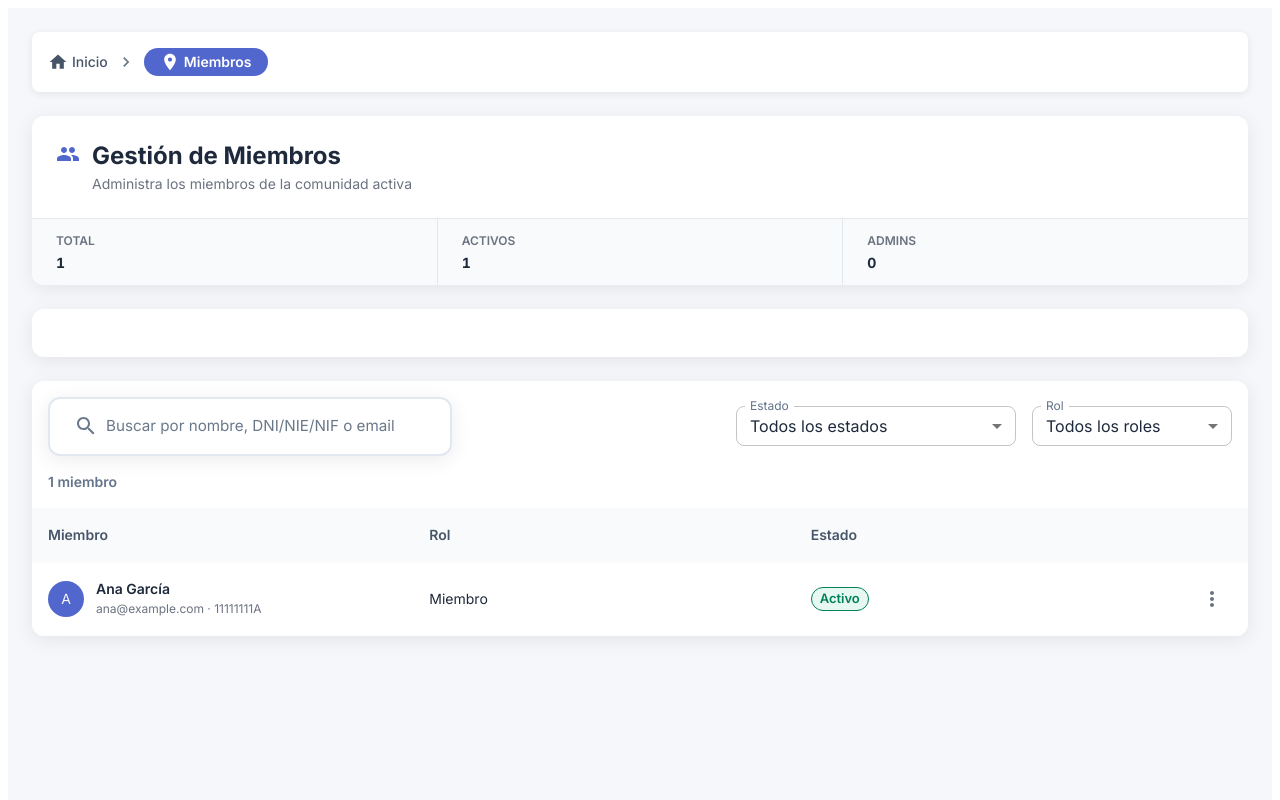
it: a backend that predates the record and suspension capabilities › UI-MBR-001 renders the roster and offers neither action
This screenshot has width=1280, height=800.
Expected: the text "Ana García" is shown, [96,580,170,597]
Click the button named "Más acciones para Ana García".
click(1212, 599)  # box [1195,582,1229,616]
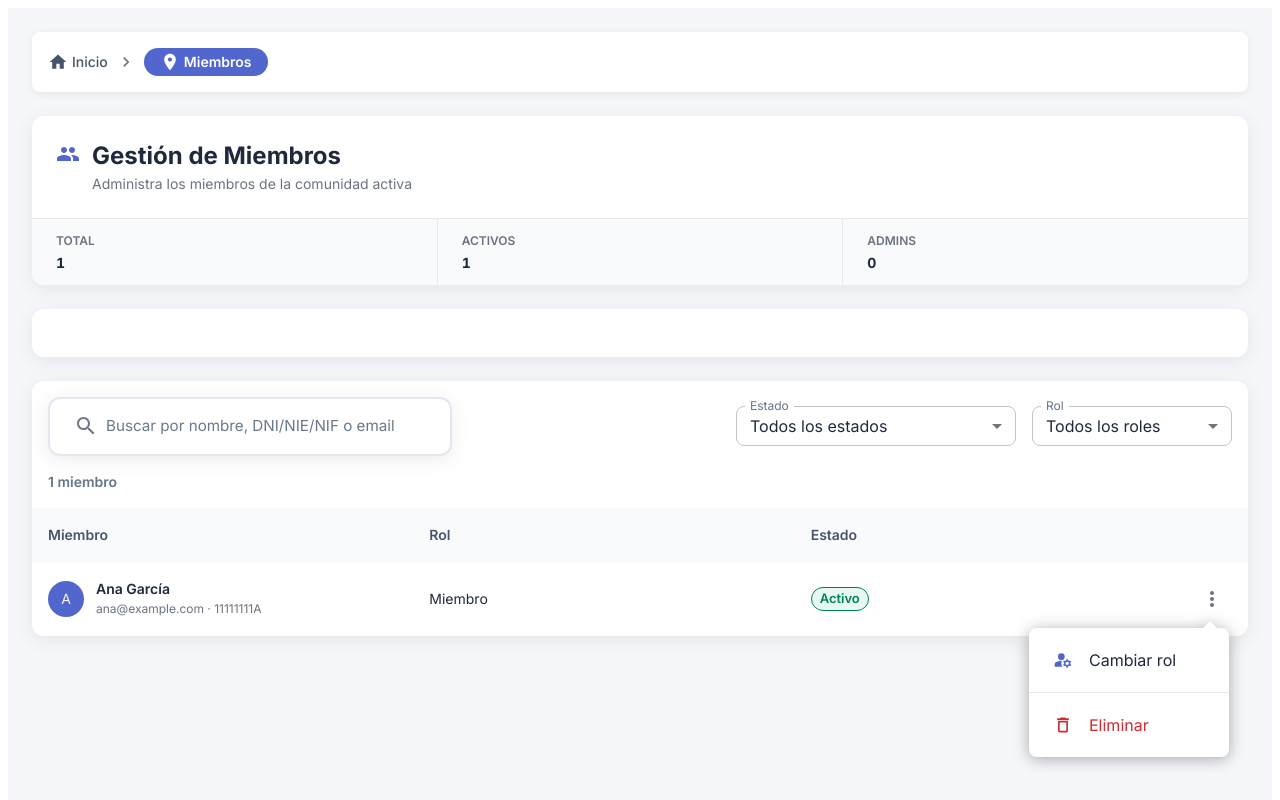
Expected: the menu item "Cambiar rol" is shown, [1053,650,1176,670]
